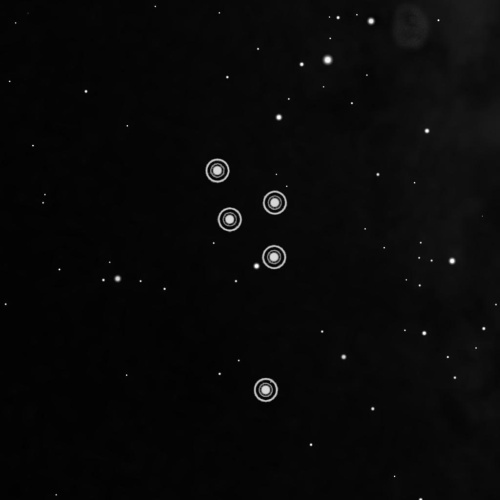delphinus: (198, 148, 293, 409)
